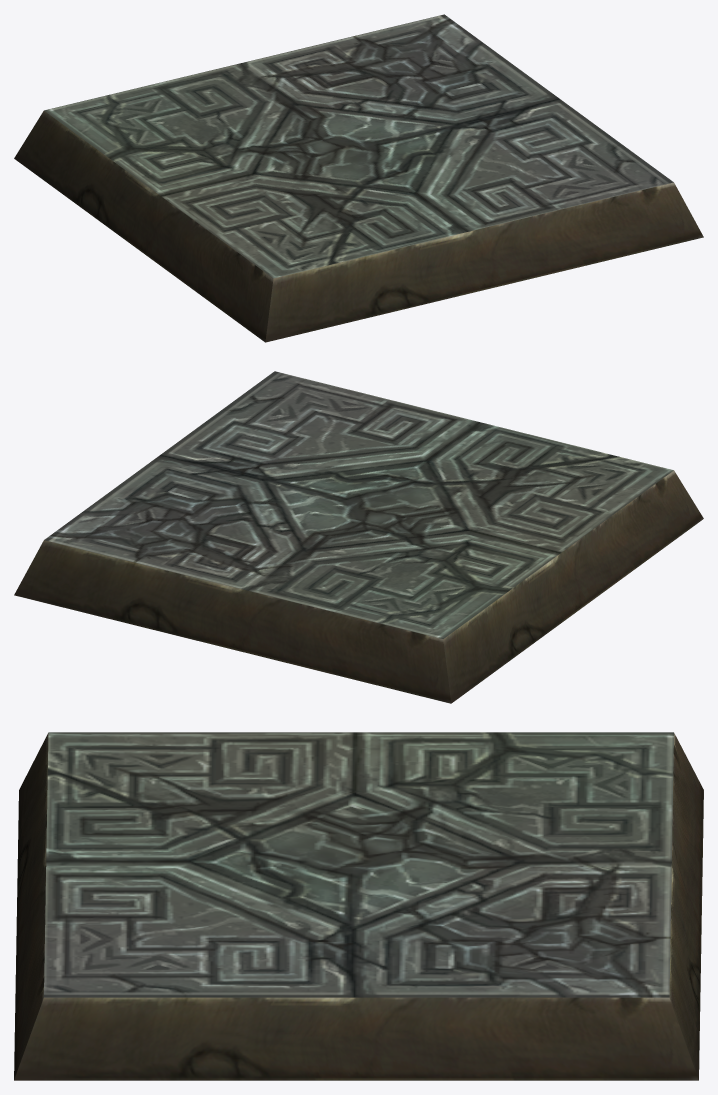
File: F_dizhuan006.fbx
3 views of the same model, one above another, from view 1: azimuth 30°, elevation 25°; view 2: azimuth 150°, elevation 25°; view 3: azimuth 270°, elevation 25° (orthographic). The views are drawn at different scales.
Parts seen in each view (by area): view 1: F_dizhuan006; view 2: F_dizhuan006; view 3: F_dizhuan006.
Part boxes in pixels (x1,y1,x2,y2): F_dizhuan006: (14, 14, 703, 342); F_dizhuan006: (14, 371, 703, 703); F_dizhuan006: (14, 732, 703, 1080).
Bounding box in the file's own units: 118 × 13.29 × 118.
